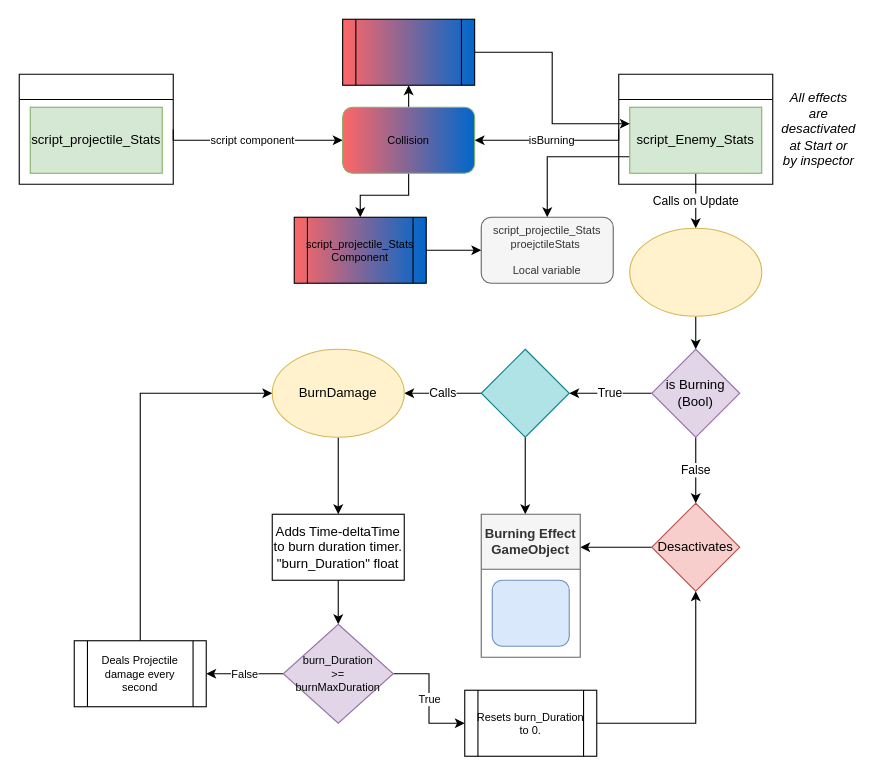
Some shapes in this 875 by 776 pixel diagram are drawn without their labels. The centre of each missing label's shape, as x and y in pixels:
"Activates" belongs at (x=524, y=392).
"Burning Sprites GameObjects" belongs at (x=530, y=612).
"CheckEffects" belongs at (x=695, y=271).
"is Burning = True" belongs at (x=408, y=51).
"Projectile GameObject" belongs at (x=95, y=128).
"Target GameObject" belongs at (x=695, y=128).
